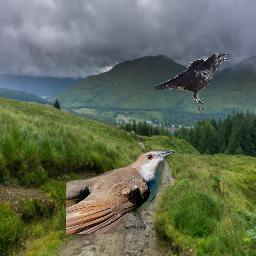Crow: (153, 53, 229, 113)
Cuckoo: (66, 150, 175, 234)
